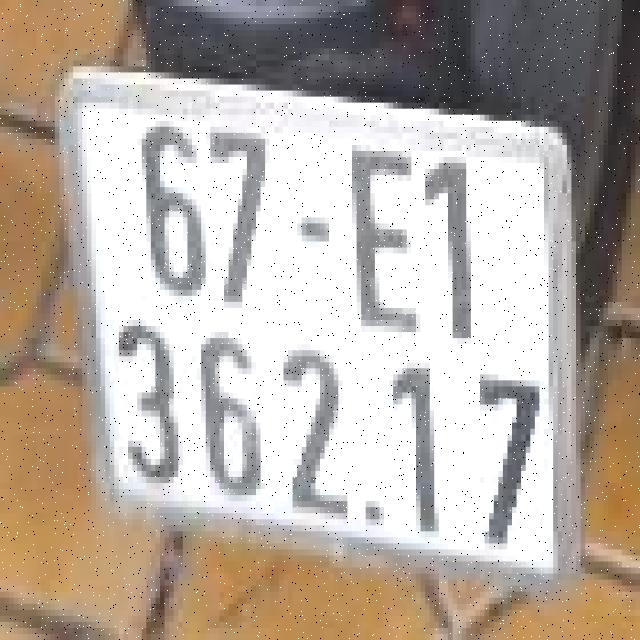1: (416, 145, 489, 350), (391, 350, 446, 538)
2: (274, 338, 352, 525)
3: (116, 311, 180, 486)
6: (137, 112, 210, 299), (194, 329, 272, 504)
7: (468, 366, 551, 558), (206, 124, 270, 317)
E: (343, 145, 420, 338)
